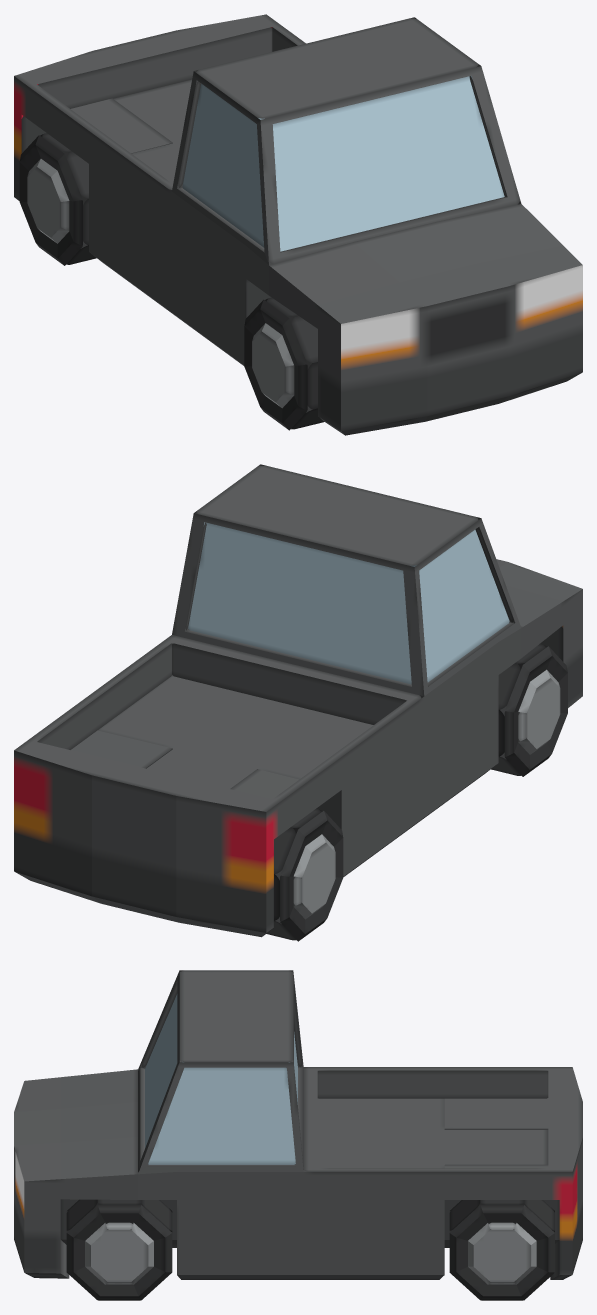
File: Car 6.fbx
The picture shows the model from 3 angles, top to bottom: view 1: azimuth 30°, elevation 25°; view 2: azimuth 150°, elevation 25°; view 3: azimuth 270°, elevation 25°; orthographic projection. The views are drawn at different scales.
Parts seen in each view (by area): view 1: cuboid, cylinder_2, cylinder_3; view 2: cuboid, cylinder_2, cylinder_3; view 3: cuboid, cylinder, cylinder_1.
Boxes of the visible parts, left/top/right/bottom form: cuboid: left=14, top=14, right=582, bottom=435; cylinder_2: left=244, top=297, right=324, bottom=430; cylinder_3: left=19, top=133, right=96, bottom=265; cuboid: left=14, top=464, right=582, bottom=937; cylinder_2: left=491, top=644, right=567, bottom=776; cylinder_3: left=266, top=808, right=343, bottom=941; cuboid: left=14, top=970, right=582, bottom=1279; cylinder: left=66, top=1199, right=172, bottom=1300; cylinder_1: left=449, top=1200, right=554, bottom=1300.
Size of the model in its own units: 163 by 154 by 344.
1 material, 1 textured.
